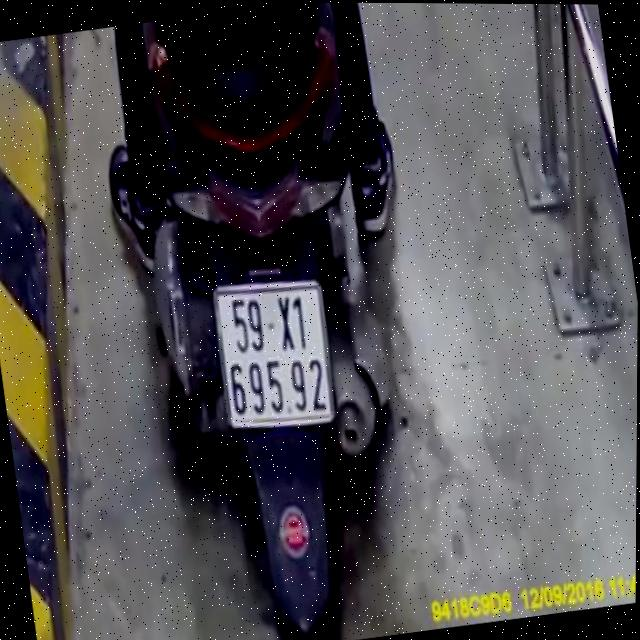motorcycle: (88, 1, 457, 640)
plate: (203, 268, 344, 440)
